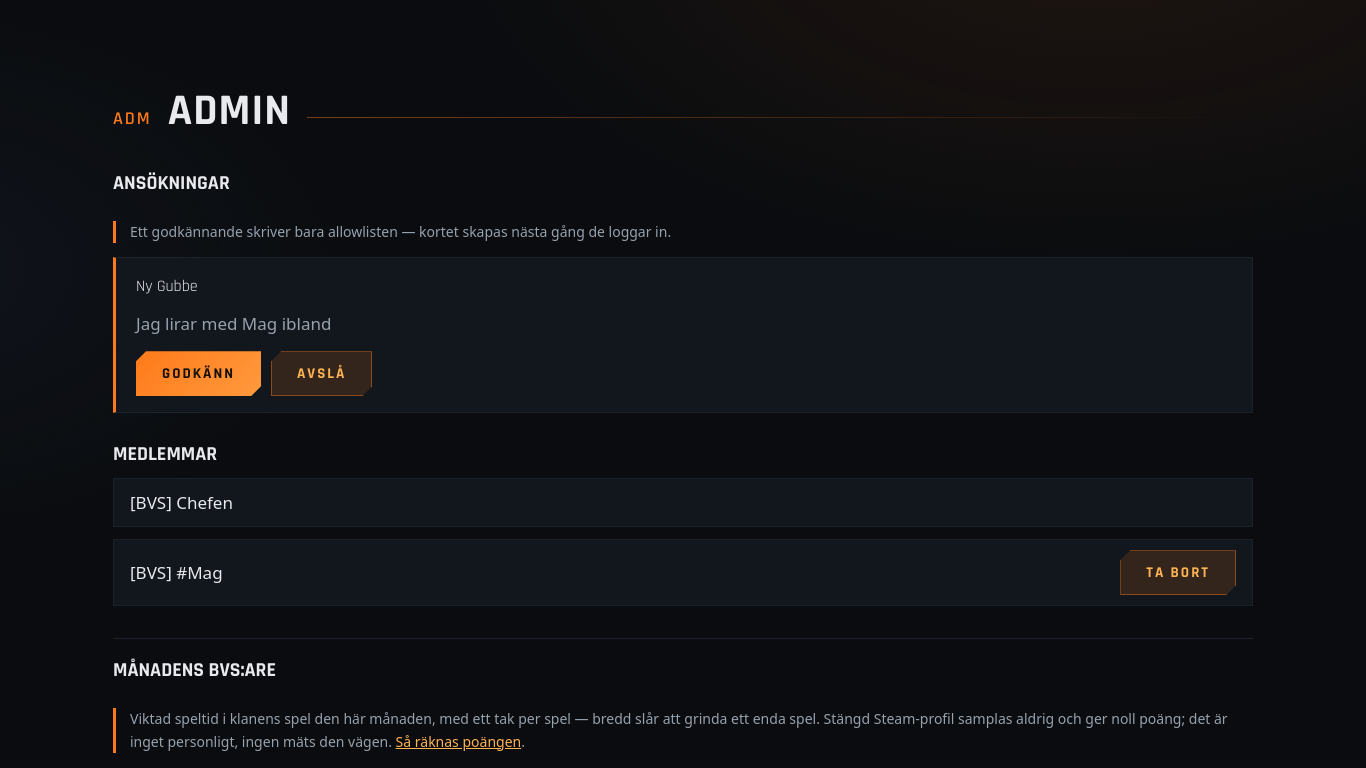
deciding on an application › approves and drops it off the waiting list
Click the button "Godkänn" at (198, 374), box [136,351,261,396]
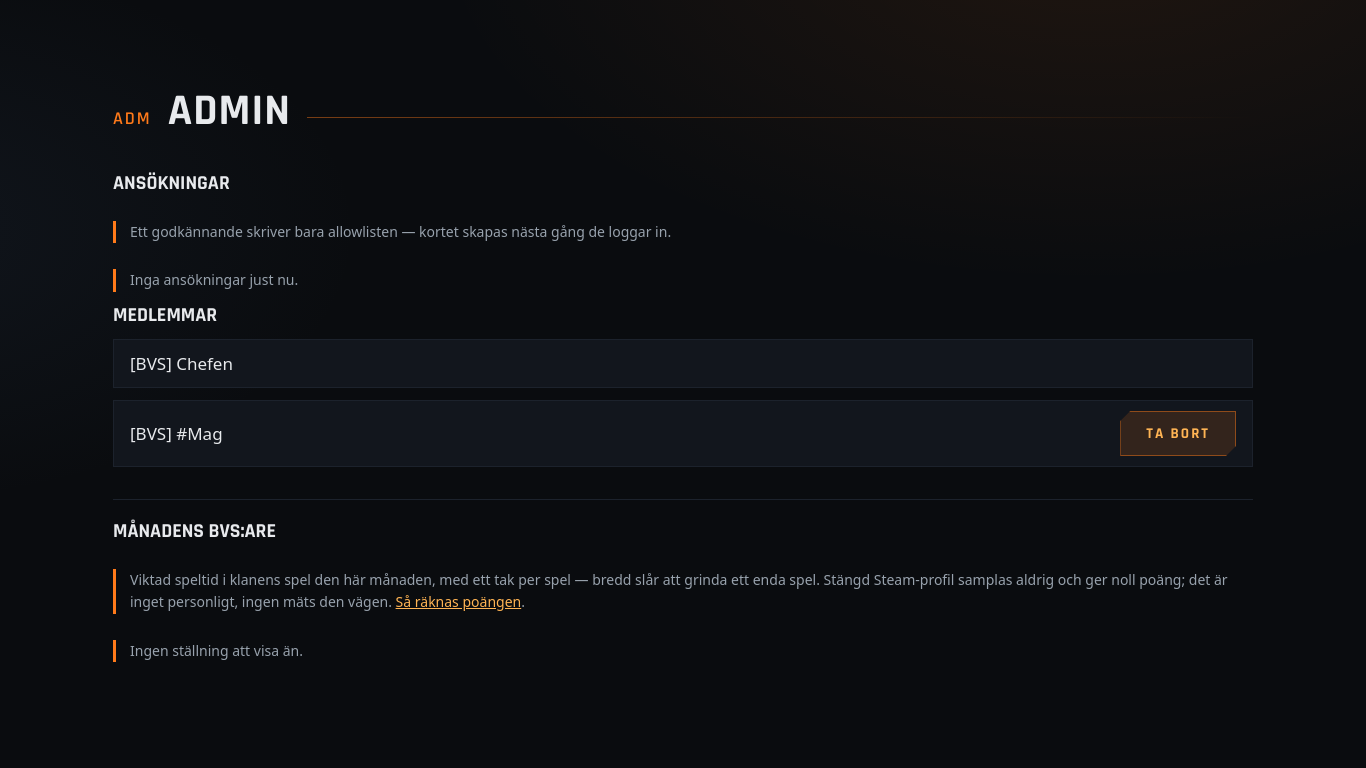
Expected: the text "Jag lirar med Mag ibland" is gone
